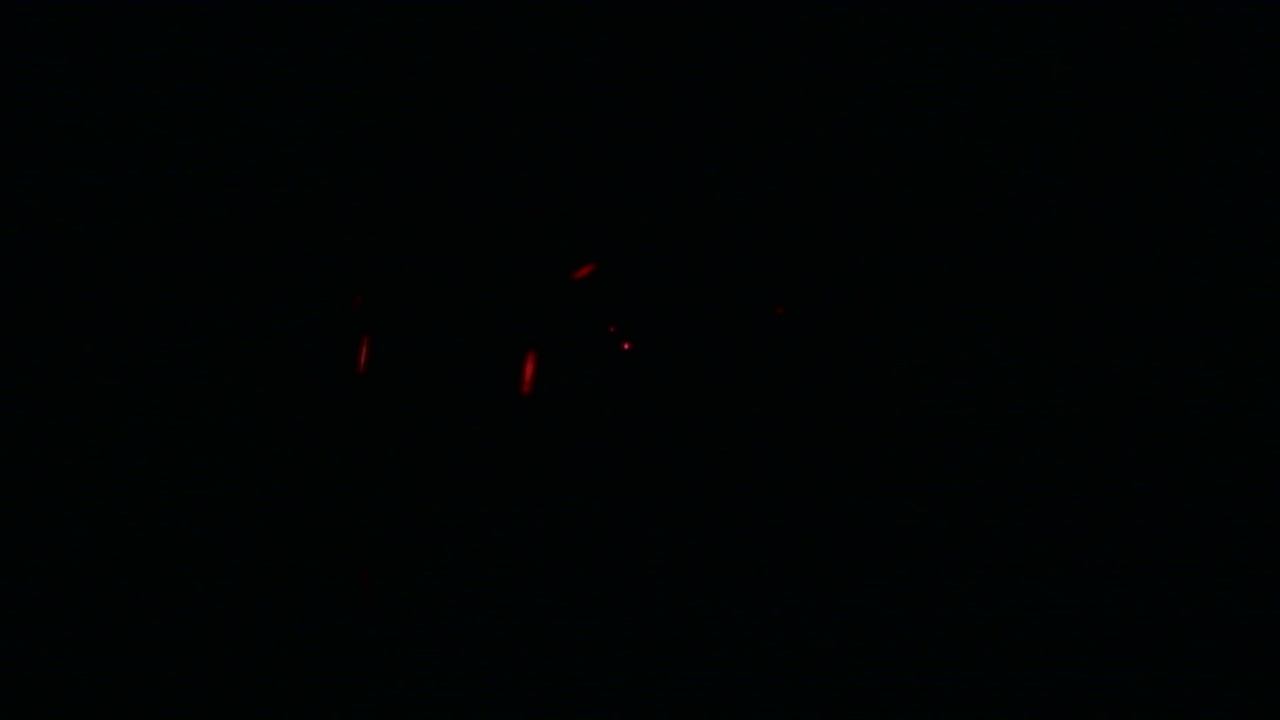lamp: (358, 333, 369, 388), (522, 336, 531, 388)
pair2: (359, 336, 536, 390)
